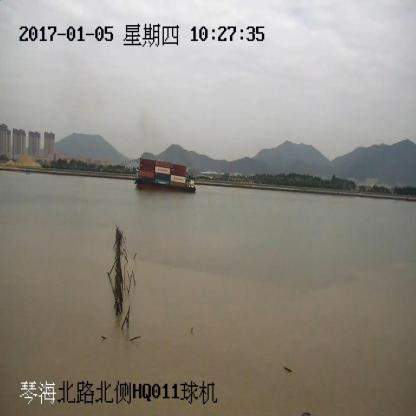Container Ship: (134, 158, 196, 194)
